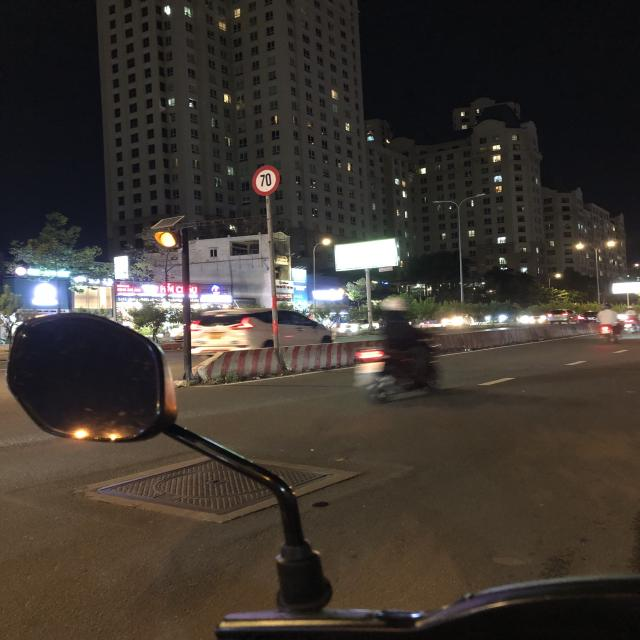Bien bao toc do toi da cho phep: (248, 163, 285, 198)
